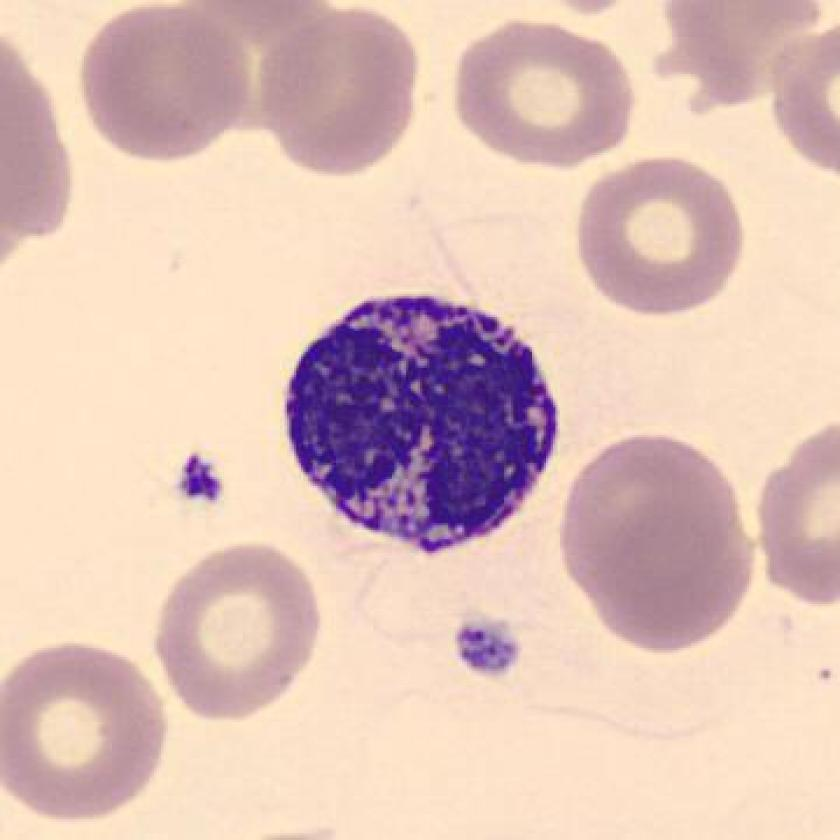basophil: (272, 286, 566, 563)
